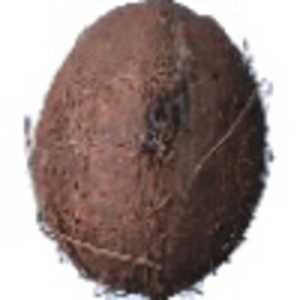coco: (25, 1, 273, 300)
